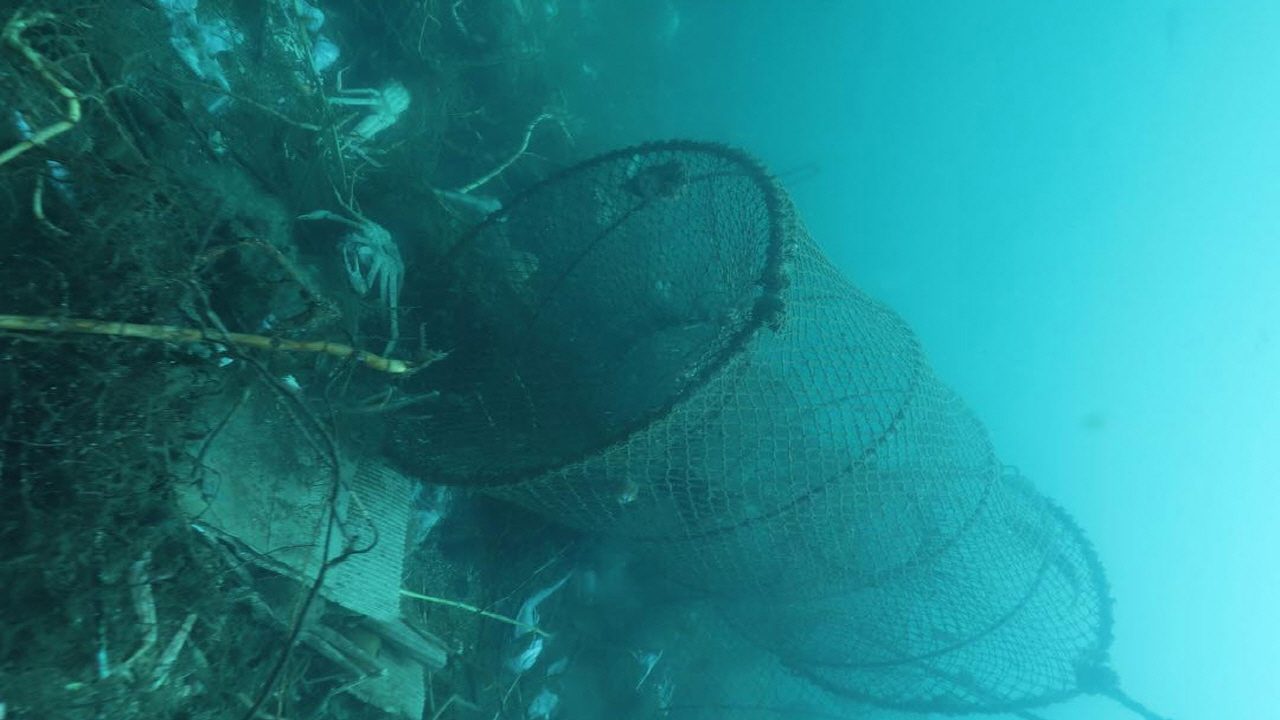spring fish trap: (370, 138, 1115, 713)
